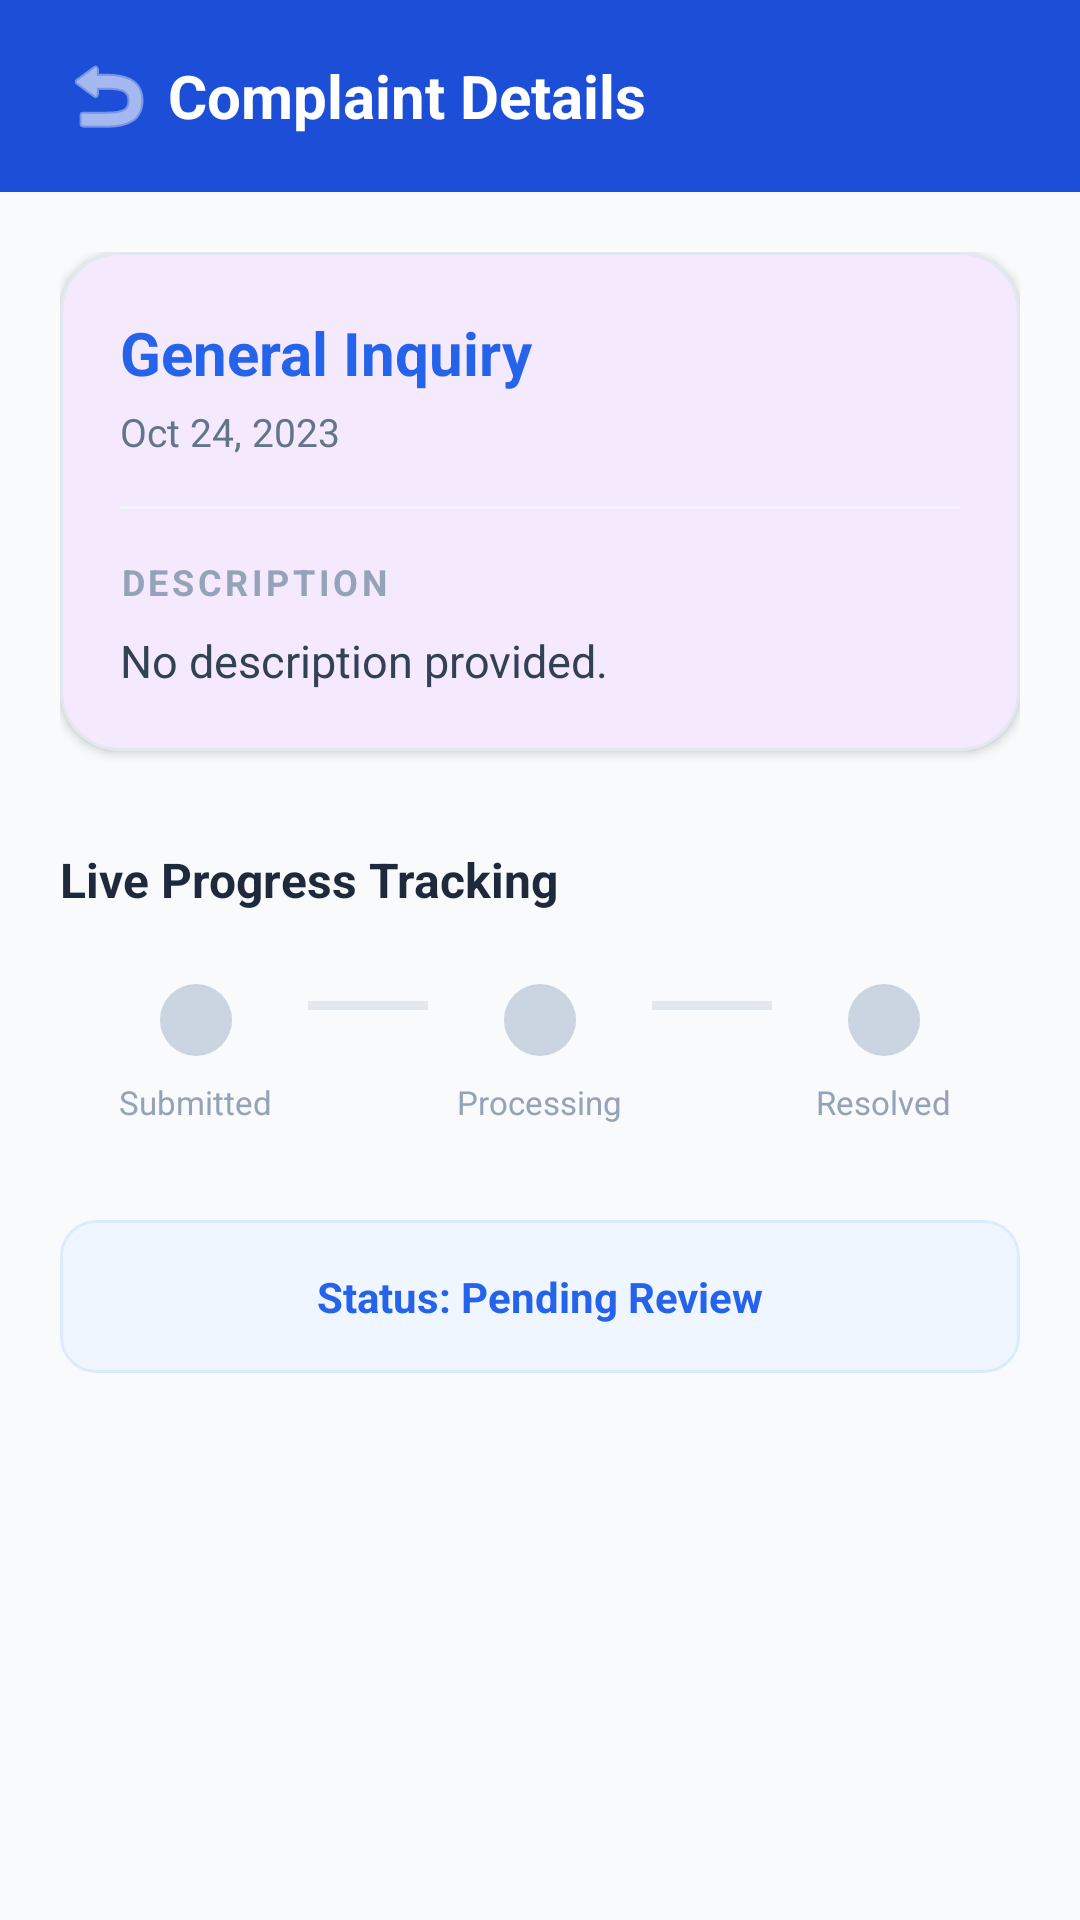

Screen size 1080w x 1920h. Icon name, then its center in pixels as [x,y]:
revert: [109,96]
